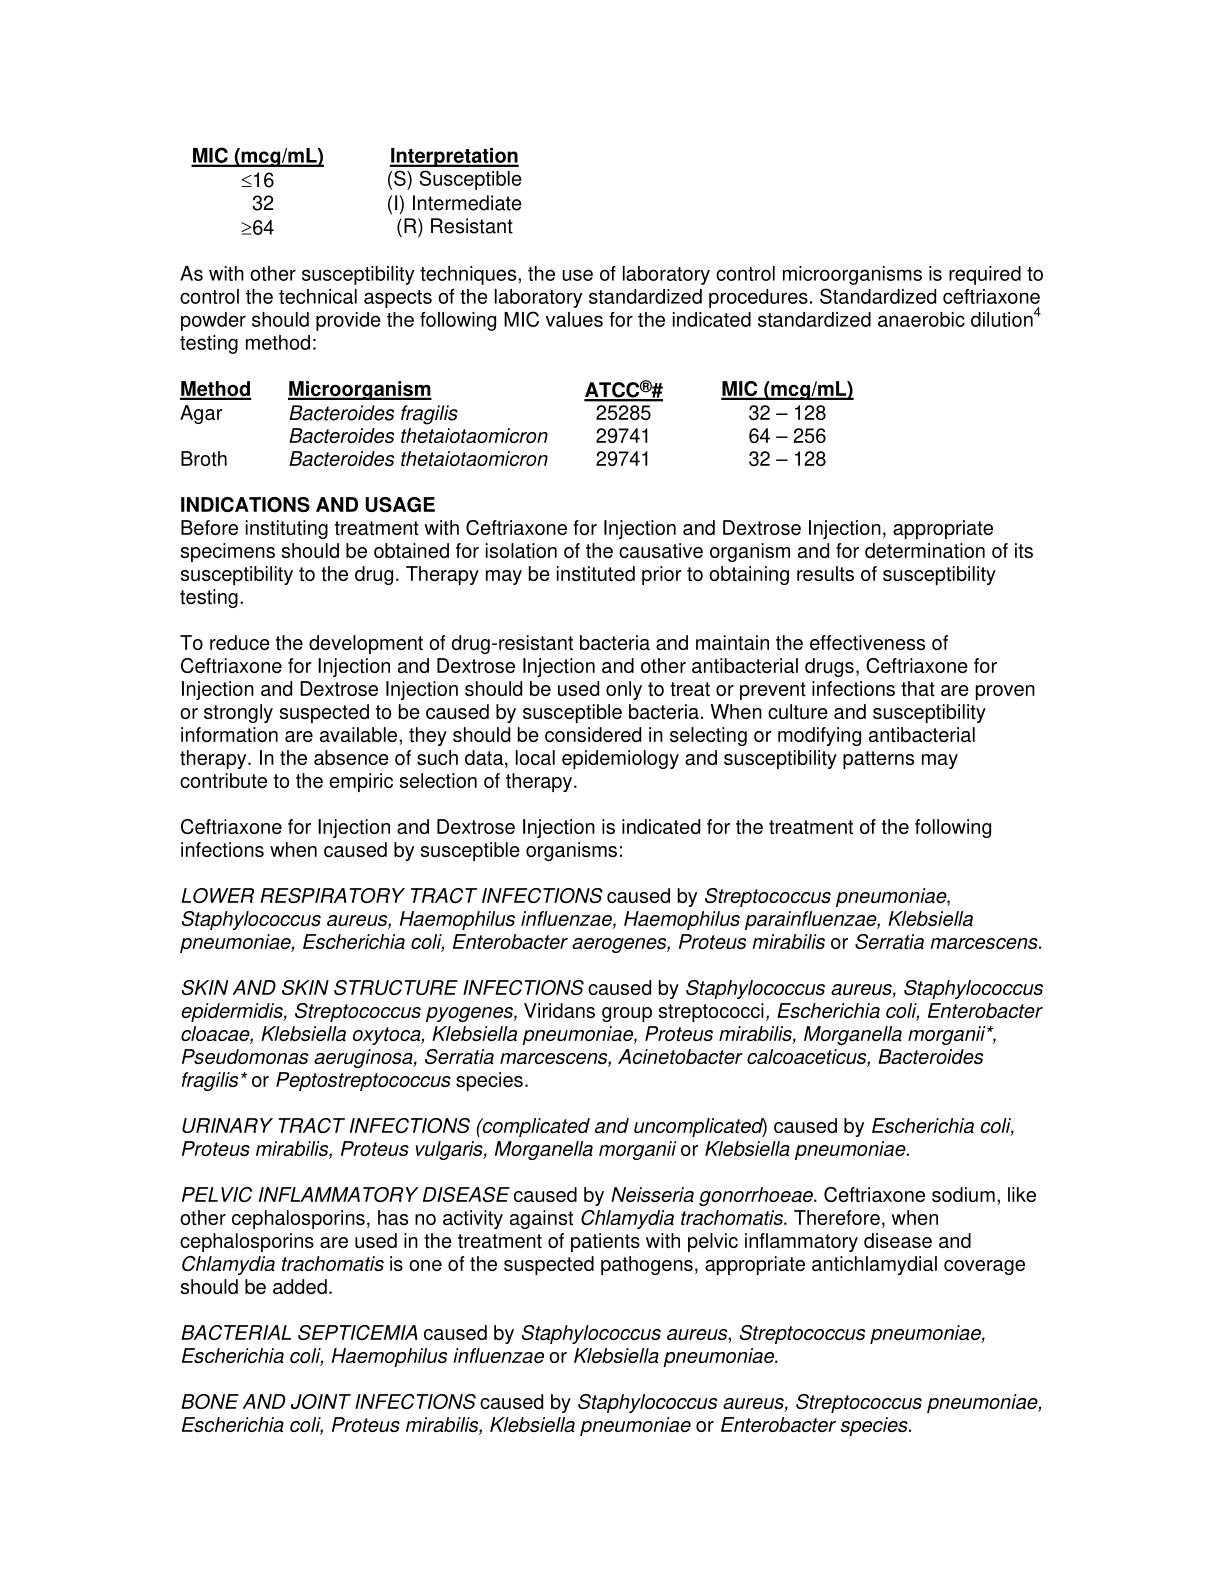nolines: (175, 379, 858, 471), (186, 145, 526, 242)
